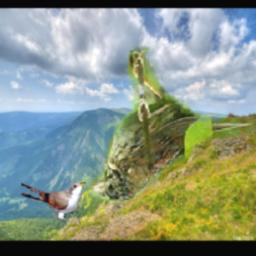Cuckoo: (21, 182, 86, 220)
Sparrow: (90, 47, 256, 204)
